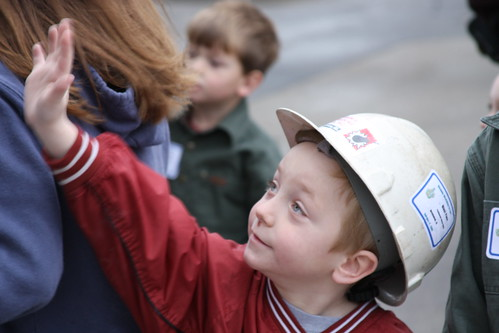person hardhat: (37, 32, 458, 333)
